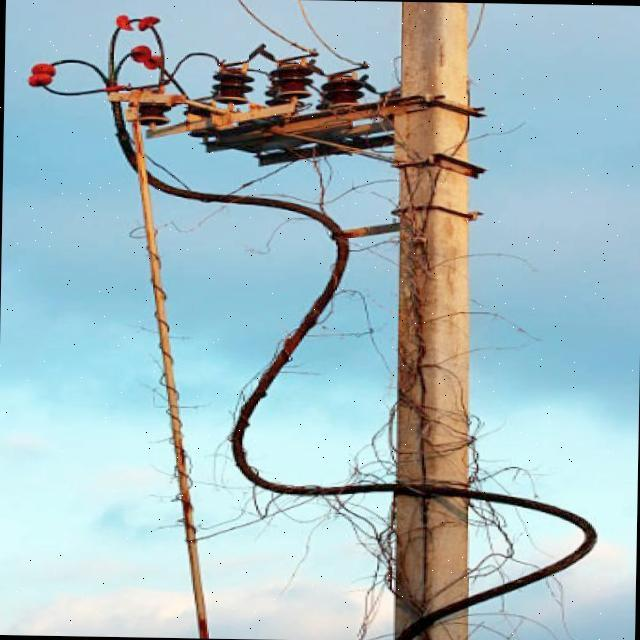critical vegetation: (332, 338, 533, 608)
